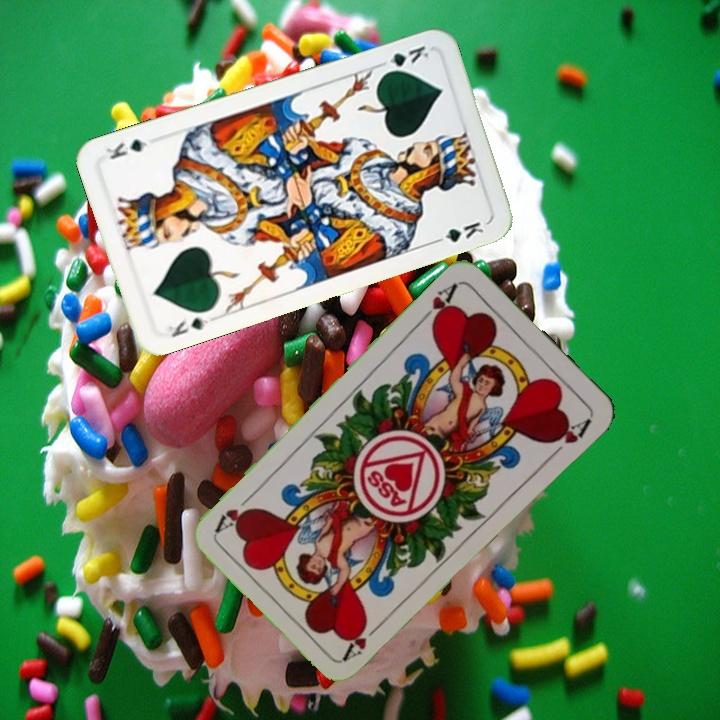GK: (374, 41, 432, 77), (164, 313, 211, 340)
HA: (416, 279, 461, 330), (339, 616, 387, 663)
